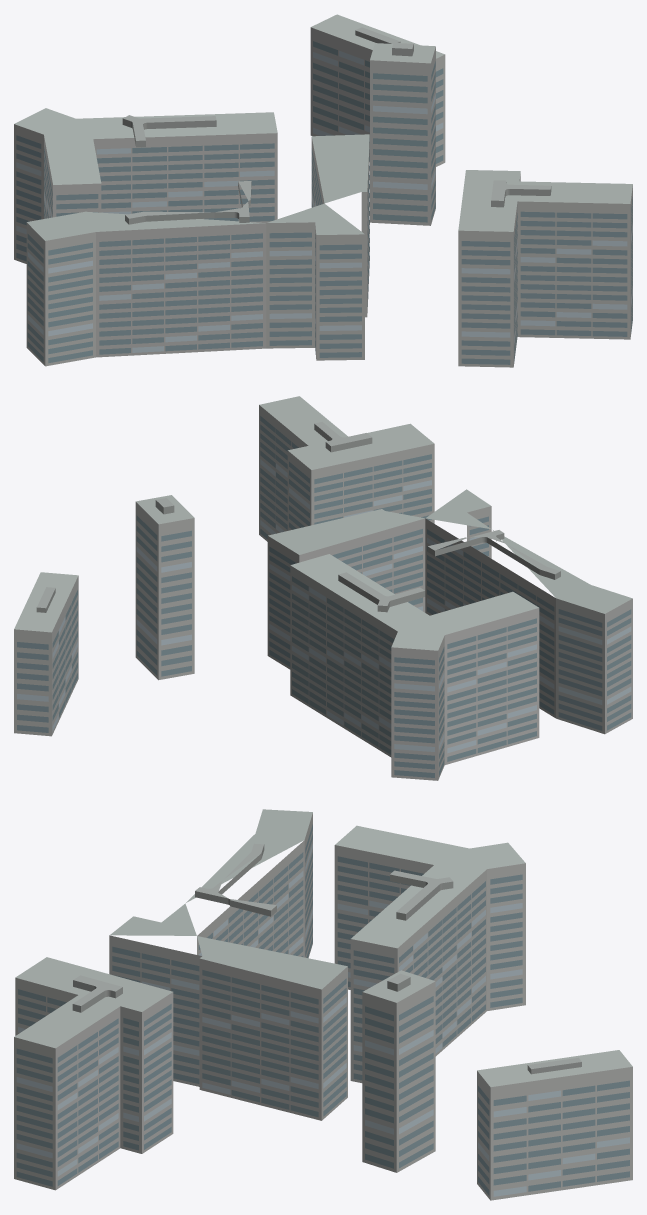
File: apt-a15701002.glb
The picture shows the model from 3 angles, top to bottom: view 1: azimuth 30°, elevation 25°; view 2: azimuth 150°, elevation 25°; view 3: azimuth 270°, elevation 25°; orthographic projection. The views are drawn at different scales.
Visible parts, largest first — view 1: apt-a15701002; view 2: apt-a15701002; view 3: apt-a15701002.
Boxes of the visible parts, <box> form: apt-a15701002: <box>14,14,632,367</box>; apt-a15701002: <box>14,396,632,780</box>; apt-a15701002: <box>14,809,632,1200</box>.
Bounding box in the file's own units: 150 × 47.81 × 151.
